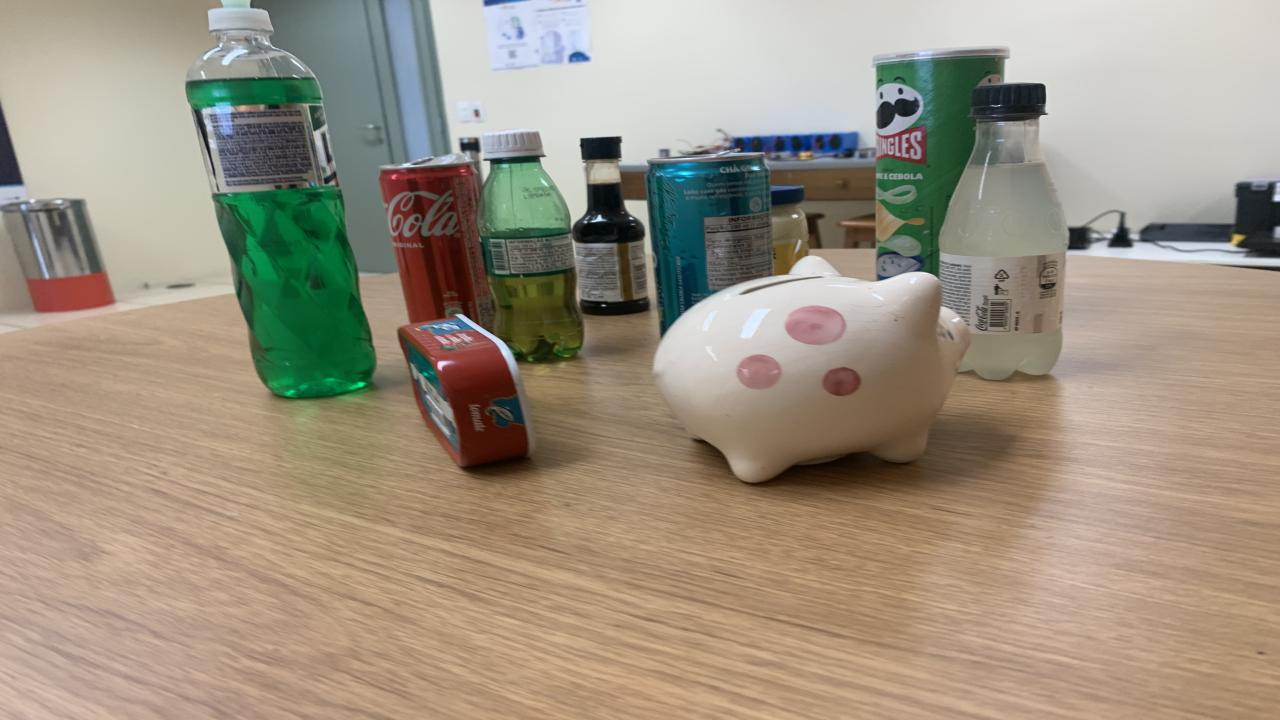Coke-Drinks: (380, 154, 495, 328)
Detergent-Cleanup_Items: (185, 0, 375, 398)
English_Sauce-Pantry_Items: (572, 137, 650, 315)
Guarana-Drinks: (478, 129, 582, 362)
Mayonnaise-Pantry_Items: (770, 186, 808, 276)
Pig_Safe-Miscellaneous: (652, 255, 970, 482)
Pringles-Snacks: (872, 47, 1010, 279)
Soda-Drinks: (940, 84, 1068, 379)
Tea-Drinks: (648, 154, 772, 334)
Tuna_Can-Pantry_Items: (398, 315, 535, 467)
